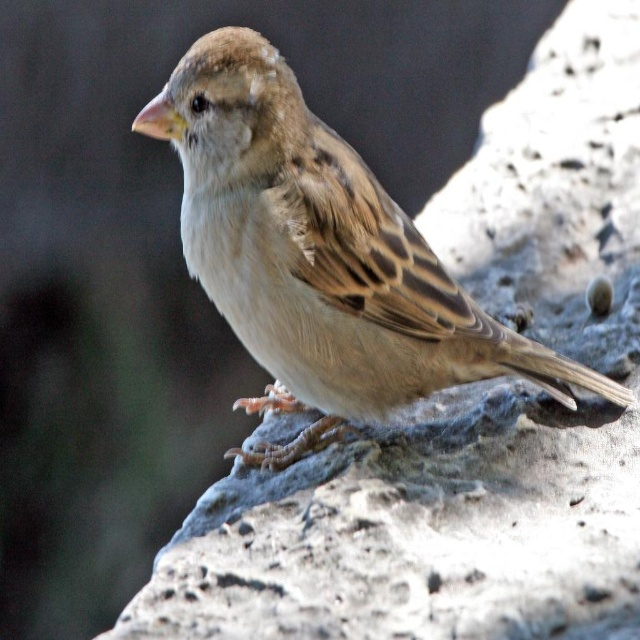Sparrow: (128, 23, 638, 476)
